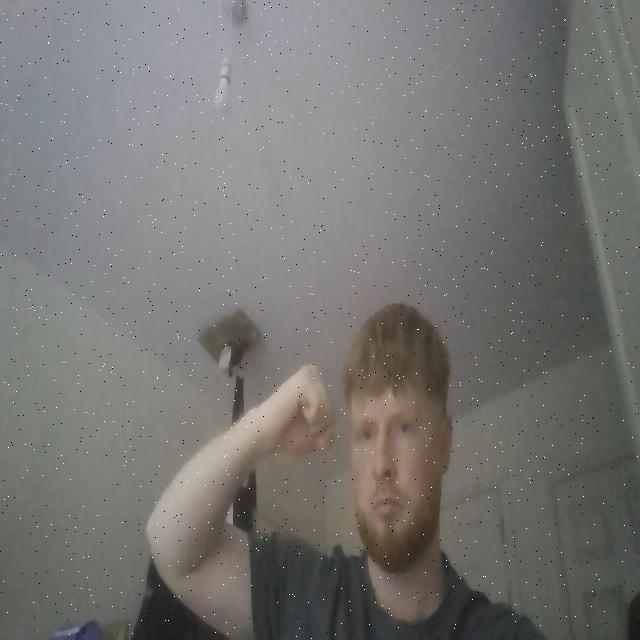rock: (268, 363, 338, 457)
